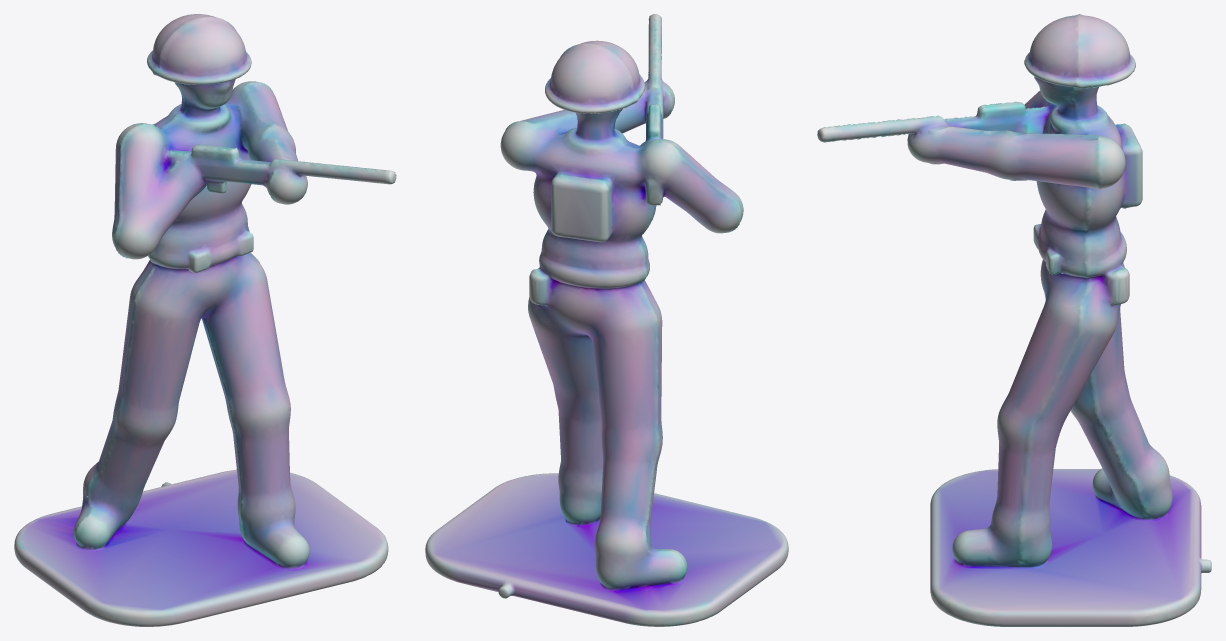
Rendered from kaptajn.glb.
3 renders of one model, left to right at view 1: azimuth 30°, elevation 25°; view 2: azimuth 150°, elevation 25°; view 3: azimuth 270°, elevation 25°, orthographic. The views are drawn at different scales.
Visible parts, largest first — view 1: kaptajn; view 2: kaptajn; view 3: kaptajn.
Part boxes in pixels (x1,y1,x2,y2): kaptajn: (14,14,396,626); kaptajn: (425,14,788,626); kaptajn: (817,14,1211,626).
Bounding box in the file's own units: 0.46 × 0.7916 × 0.5242.
